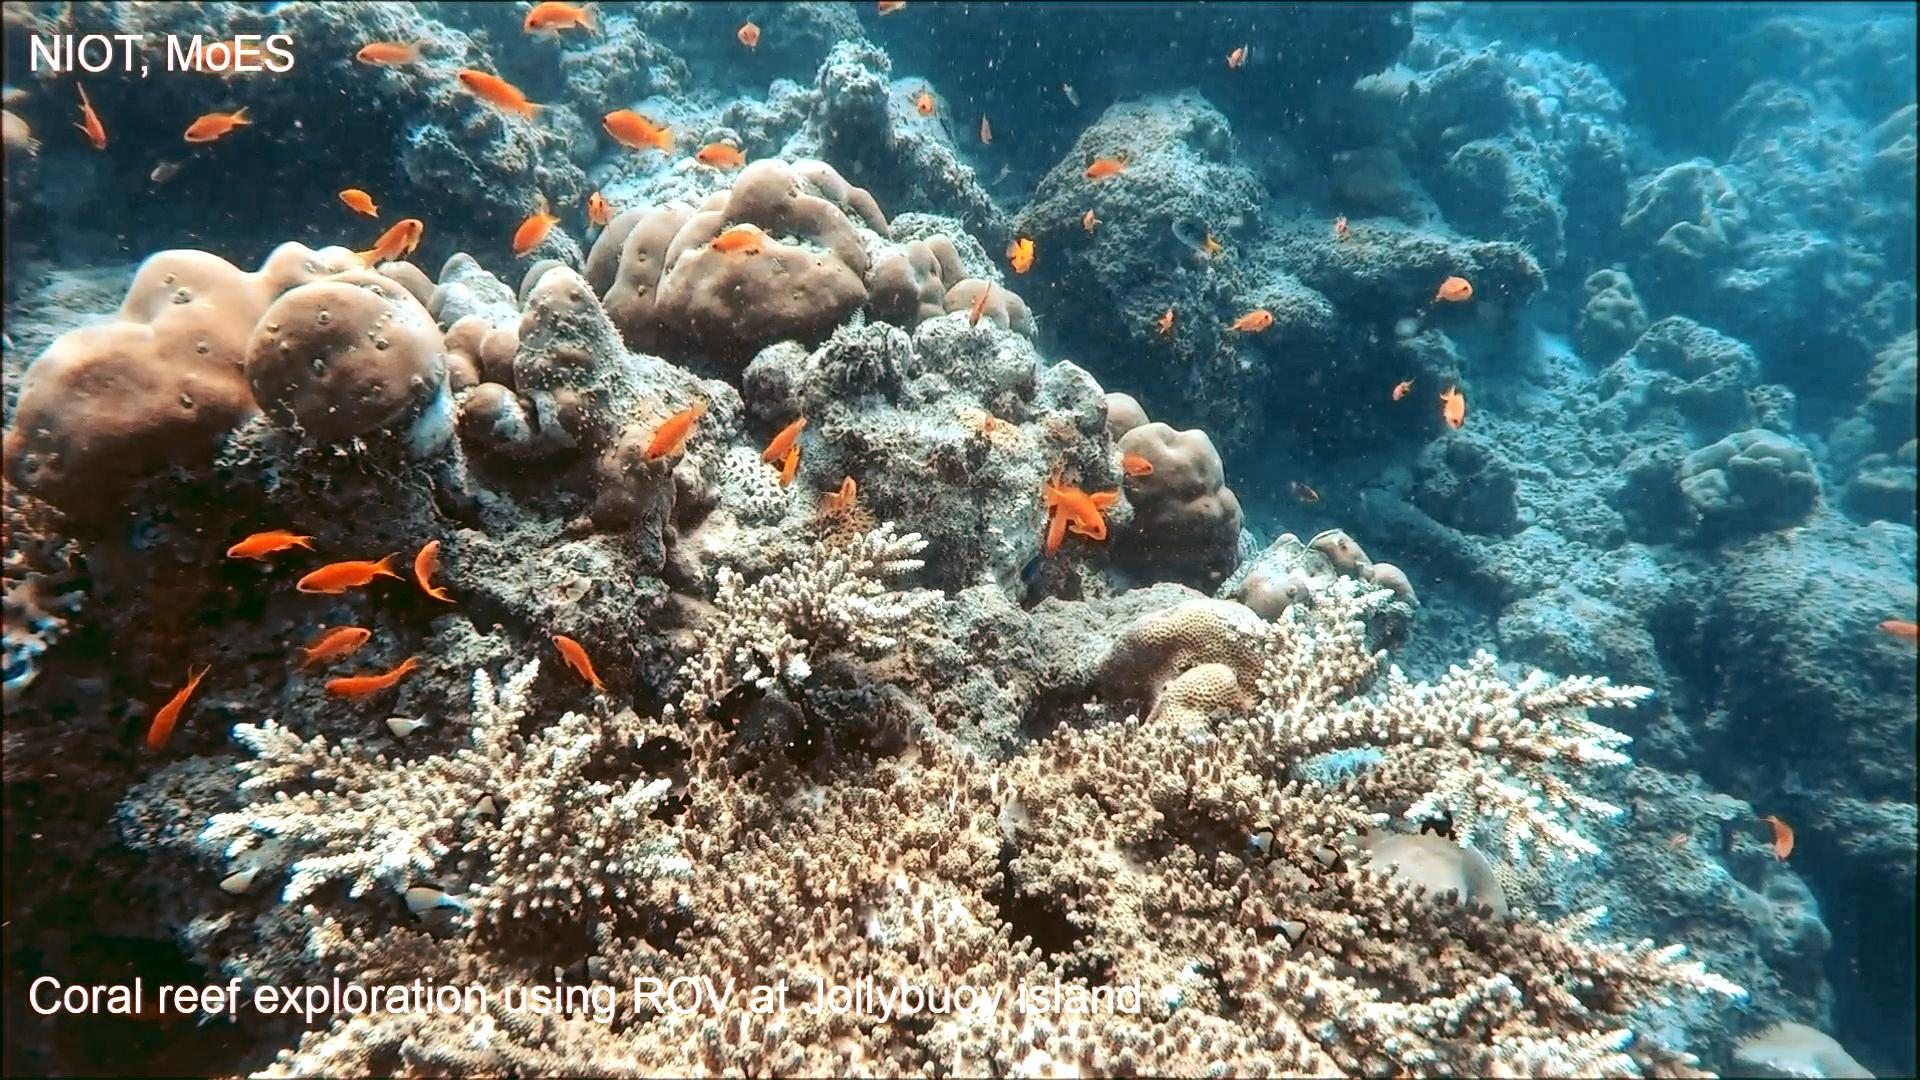Porites-Porites pukoensis: (3, 231, 452, 527), (576, 150, 1038, 365)
